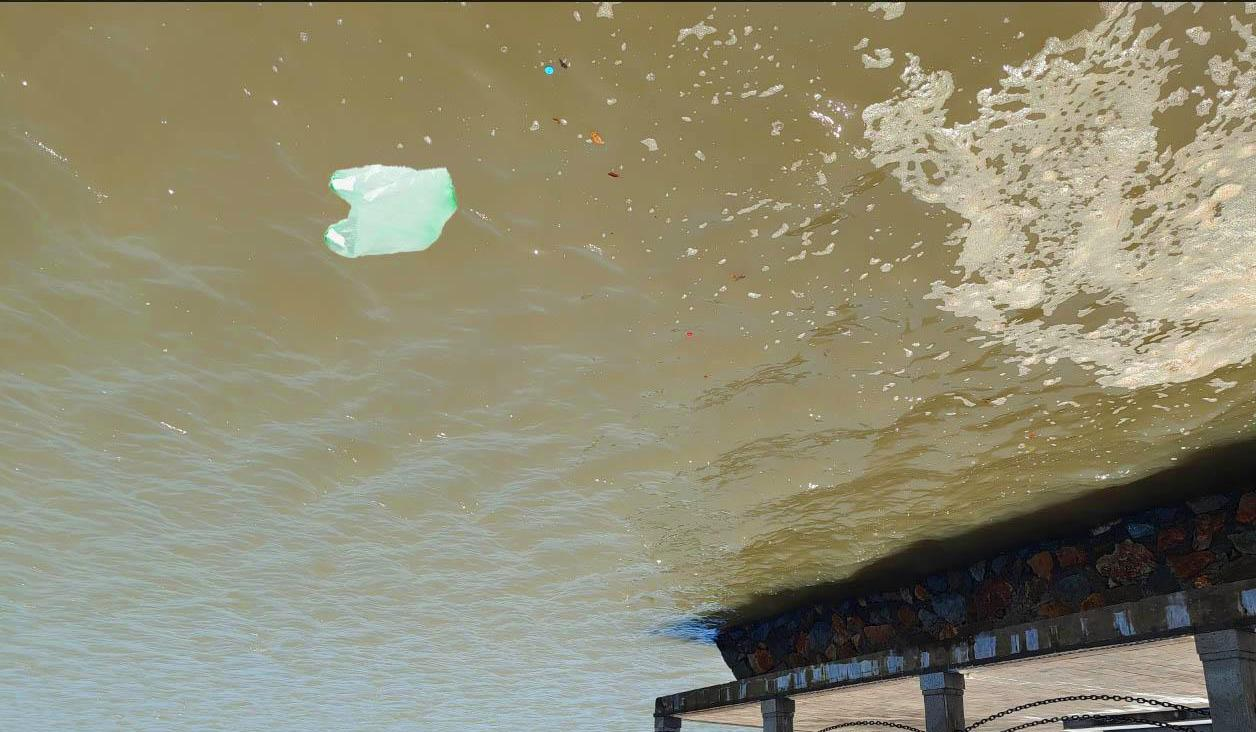Trash: (321, 161, 459, 259)
